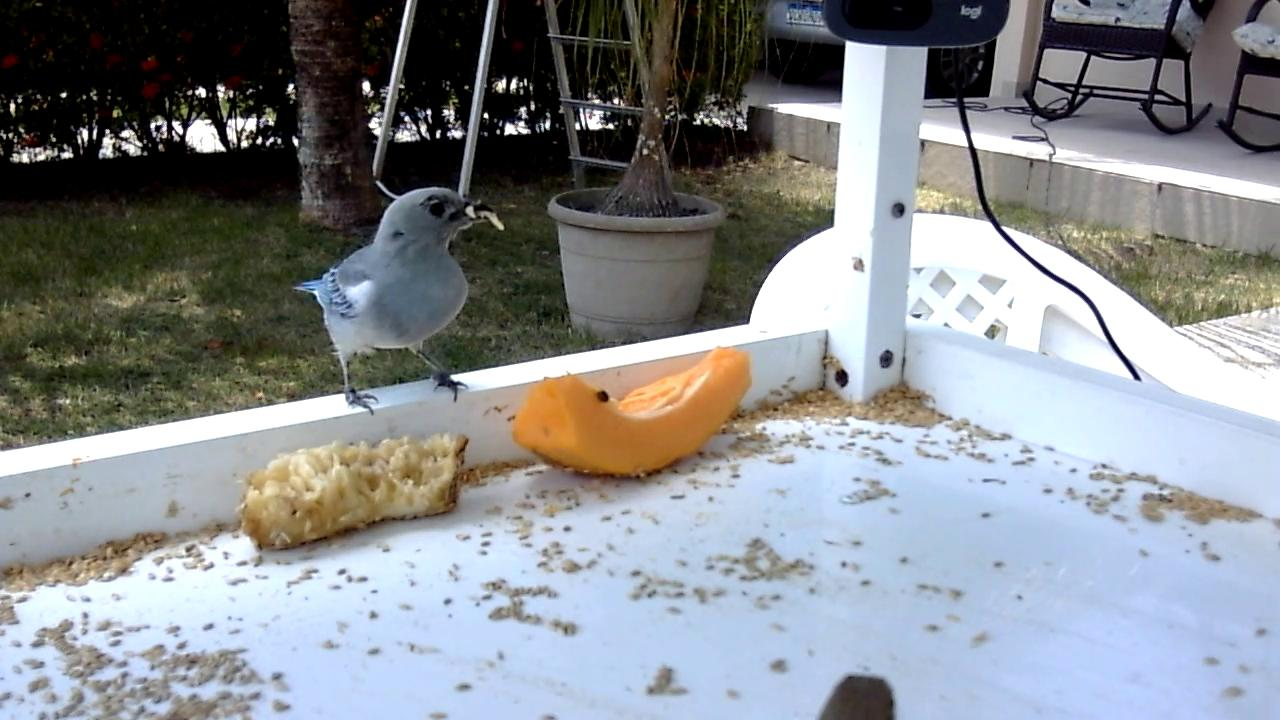sanhaco_da_amazonia: (295, 189, 503, 415)
